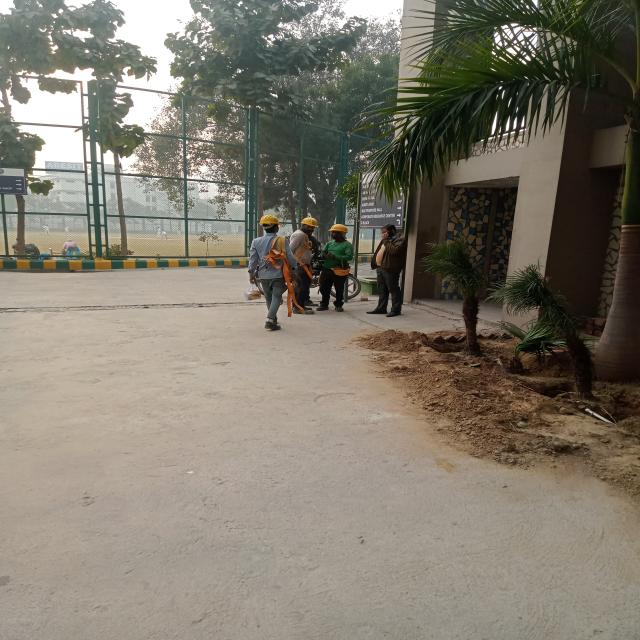no jacket: (248, 215, 288, 330), (288, 215, 322, 315), (321, 223, 356, 312)
unsafe: (371, 223, 407, 318)
